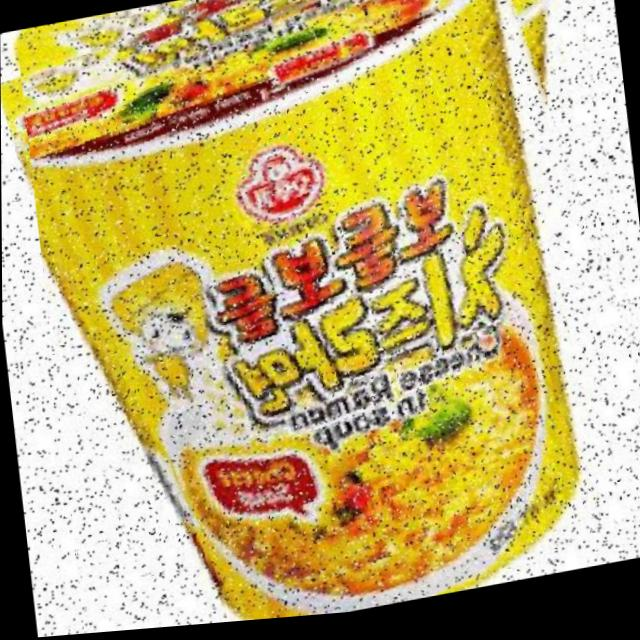Miscellaneous: (14, 0, 640, 639)
